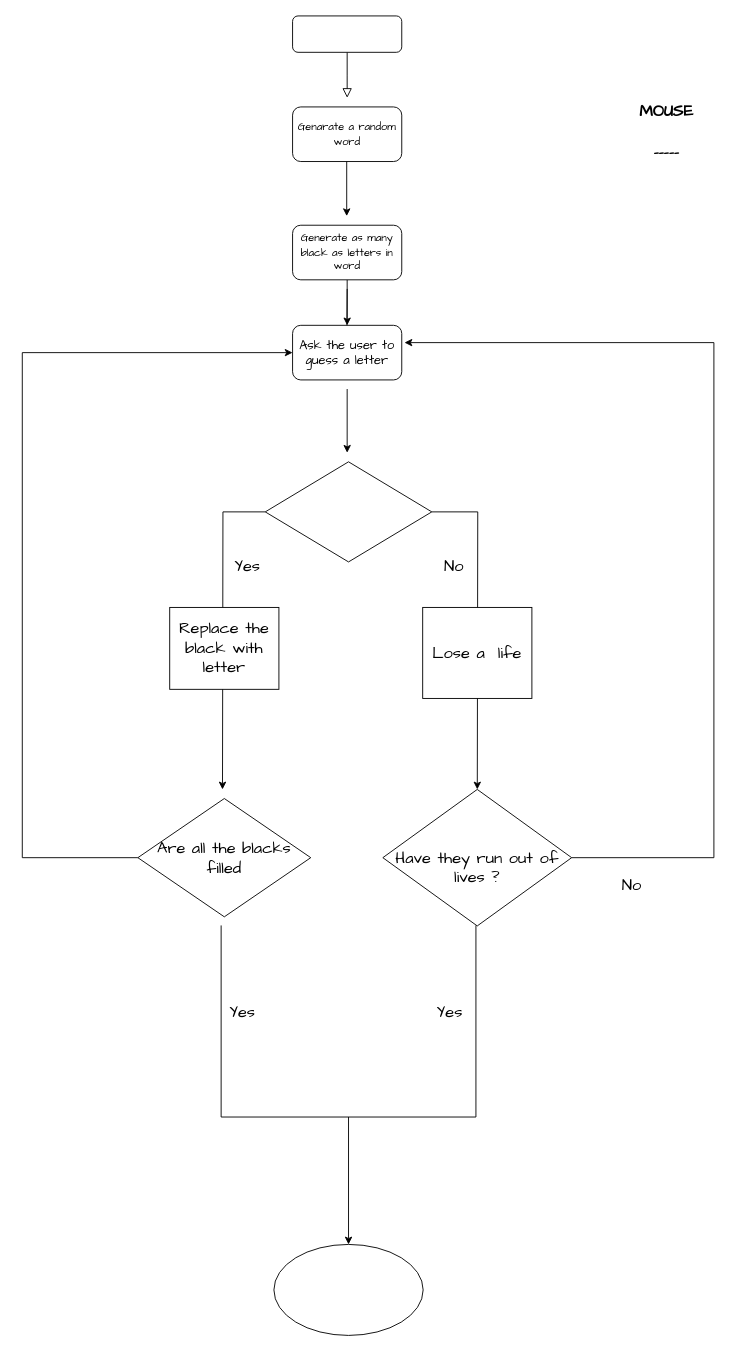
Image size: 744x1351. Some labels were removed from this diagram. The centre of each missing label's shape, as x and y in pixels:
Game Over: (348,1289)
Is the guessed letter in the word: (348,511)
Start: (347,33)
